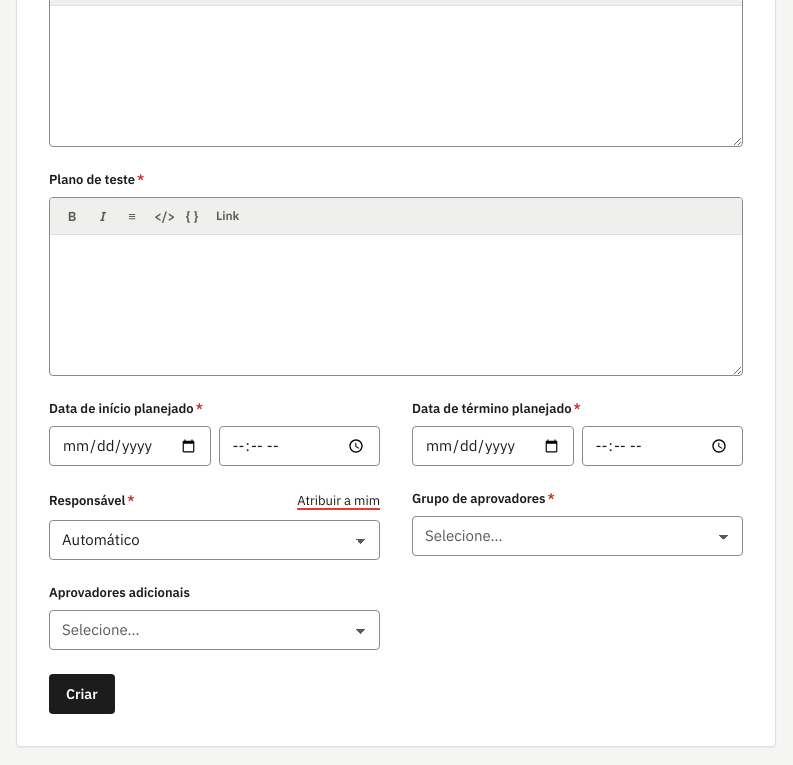
Test: Mudança › "Atribuir a mim" seleciona o usuário simulado
(page scrolled)
Step 1. Click the button "Atribuir a mim" → click(339, 501), box x1=297 y1=490 x2=380 y2=512
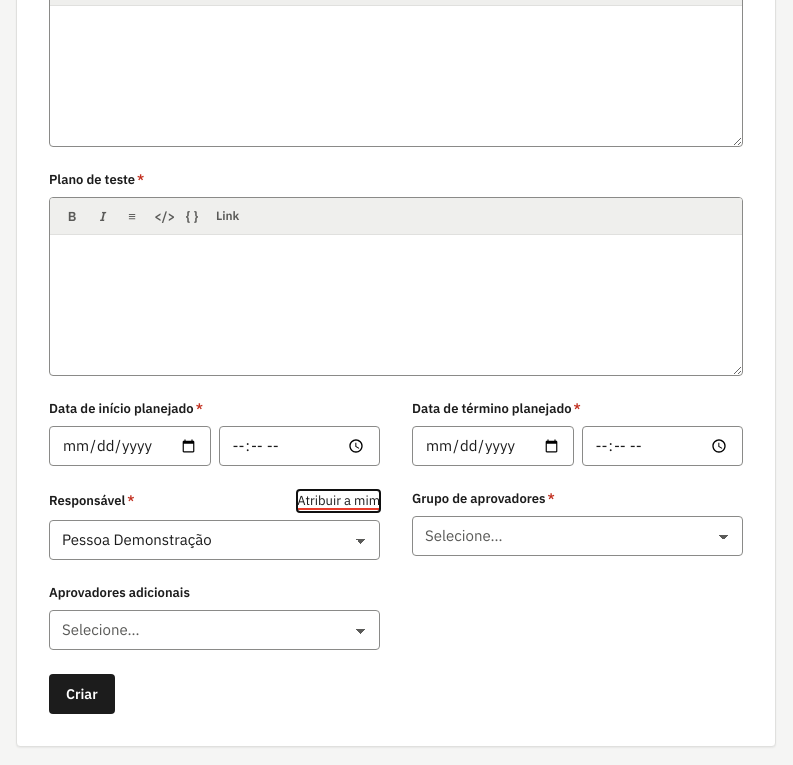
expect the text "Pessoa Demonstração" is shown: met, box x1=62 y1=529 x2=212 y2=551
